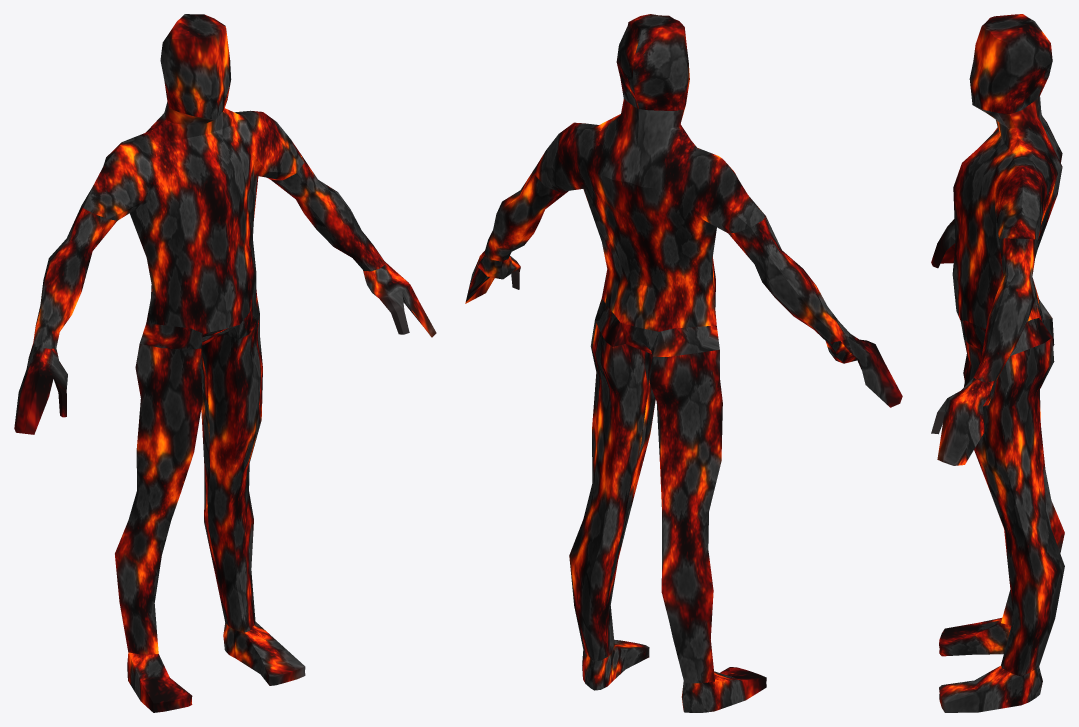
Rendered from lava_man_unrigged.fbx.
The picture shows the model from 3 angles, left to right: view 1: azimuth 30°, elevation 25°; view 2: azimuth 150°, elevation 25°; view 3: azimuth 270°, elevation 25°; orthographic projection. The views are drawn at different scales.
Visible parts, largest first — view 1: Mesh; view 2: Mesh; view 3: Mesh.
Part boxes in pixels (box(x1,y1,x2,y2)): Mesh: box(14, 14, 436, 712); Mesh: box(465, 14, 902, 712); Mesh: box(931, 14, 1064, 712).
Bounding box in the file's own units: 122 × 181 × 33.45.
